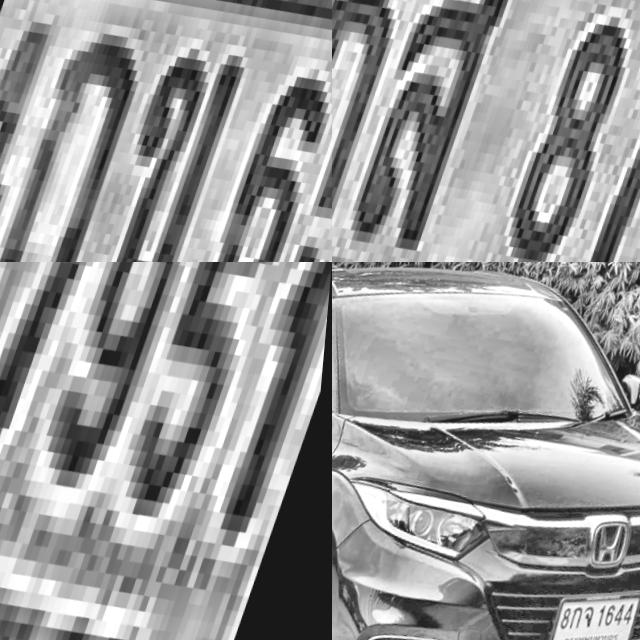license-plate: (0, 262, 332, 640), (0, 0, 332, 262), (332, 0, 640, 262), (546, 582, 640, 640)
